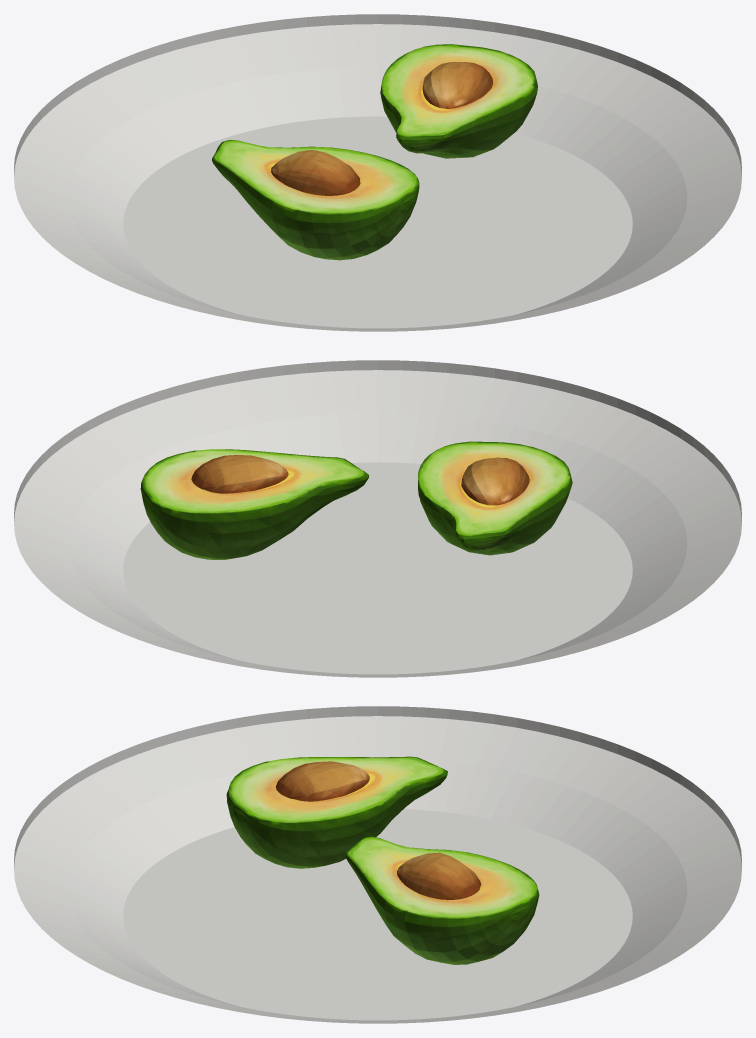
File: modelo-com-extensao.glb
3 views of the same model, one above another, from view 1: azimuth 30°, elevation 25°; view 2: azimuth 150°, elevation 25°; view 3: azimuth 270°, elevation 25° (orthographic).
Visible parts, largest first — view 1: plate, avo0, avo1; view 2: plate, avo1, avo0; view 3: plate, avo0, avo1.
Part boxes in pixels (x1,y1,x2,y2): plate: (14, 14, 741, 331); avo0: (212, 140, 419, 260); avo1: (380, 44, 537, 158); plate: (14, 360, 741, 677); avo1: (140, 449, 368, 559); avo0: (418, 441, 572, 555); plate: (14, 706, 741, 1023); avo0: (226, 756, 447, 868); avo1: (345, 836, 539, 964).
Size of the model in its own units: 0.22 by 0.0359 by 0.22.
2 materials, 1 textured.
